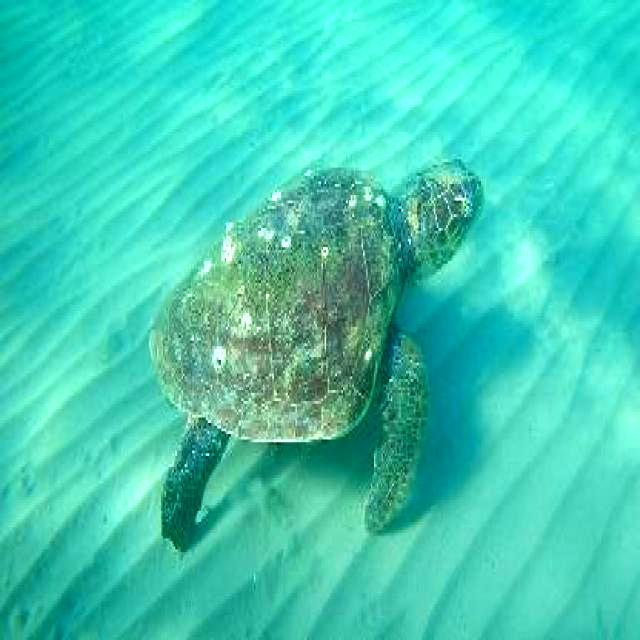Sea turtle: (141, 147, 481, 554)
